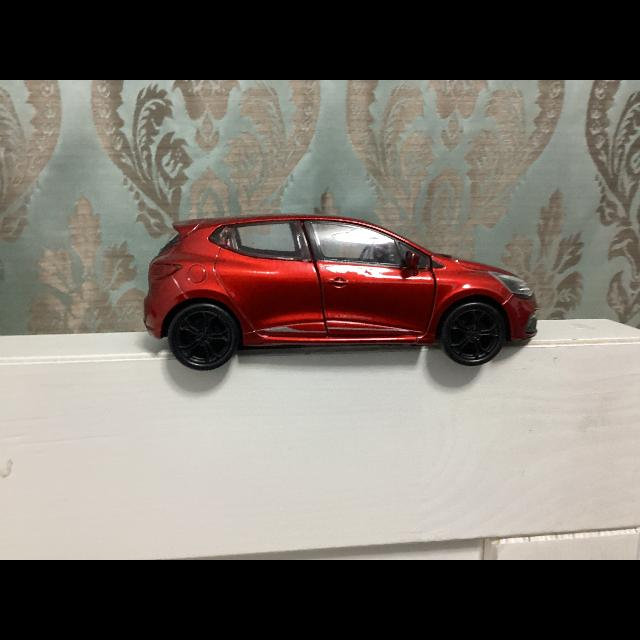Dogru_Jant: (176, 310, 230, 362), (448, 308, 498, 359)
